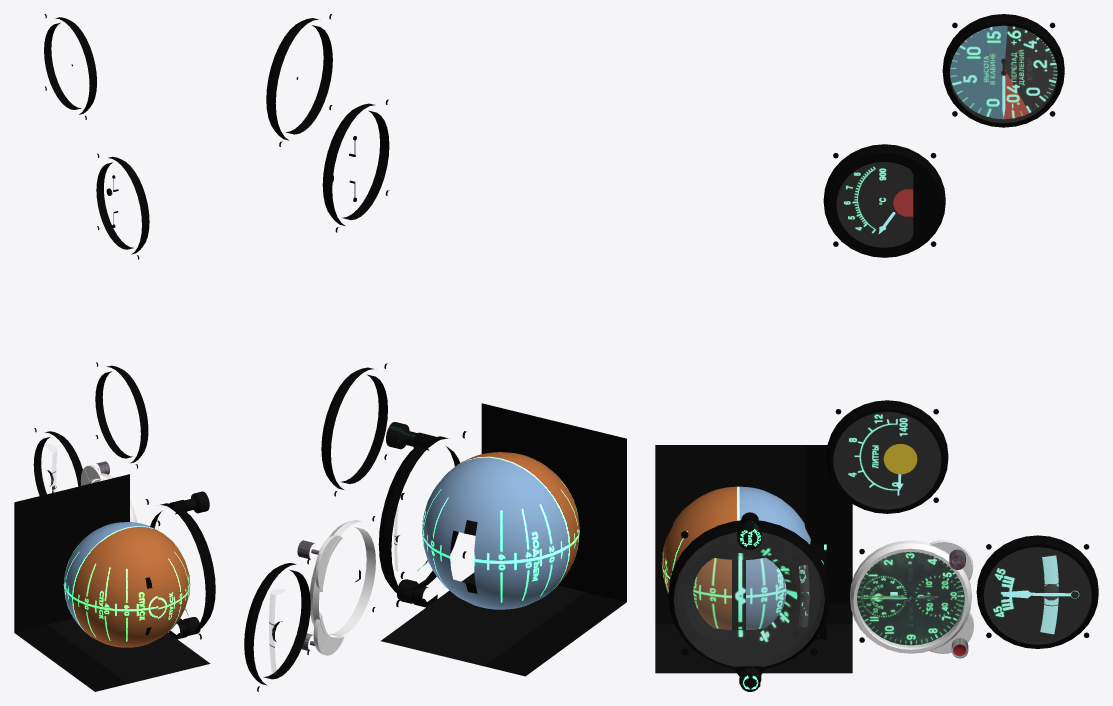
The model's file is MiG-15bis-instruments1.gltf.
3 views of the same model, side by side, from view 1: azimuth 30°, elevation 25°; view 2: azimuth 150°, elevation 25°; view 3: azimuth 270°, elevation 25° (orthographic). The views are drawn at different scales.
Visible parts, largest first — view 1: HO_OB_Cube, HO_Sphere, HO_Bezel, FM_Bezel, GT_Bezel, MAN_Bezel, TM_Bezel, CH_Bezel, HO_Button; view 2: HO_OB_Cube, HO_Sphere, CH_Bezel, HO_Bezel, GT_Bezel, MAN_Bezel, FM_Bezel, TM_Bezel, HO_Button; view 3: HO_OB_Cube, HO_Glass, HO_Sphere, MAN_Glass, FM_Glass, TM_Glass, HO_Backpanel, glass, MAN_Backplate, face, FM_Backplate, TM_Foreplate (+14 smaller).
Part boxes in pixels (<box>): HO_OB_Cube: <box>14,474,210,691</box>; HO_Sphere: <box>63,522,190,647</box>; HO_Bezel: <box>145,499,215,639</box>; FM_Bezel: <box>95,362,148,468</box>; GT_Bezel: <box>96,153,149,259</box>; MAN_Bezel: <box>44,14,96,119</box>; TM_Bezel: <box>33,428,82,495</box>; CH_Bezel: <box>80,465,137,522</box>; HO_Button: <box>175,491,209,514</box>; HO_OB_Cube: <box>381,403,626,676</box>; HO_Sphere: <box>422,452,579,609</box>; CH_Bezel: <box>309,516,375,655</box>; HO_Bezel: <box>378,431,466,607</box>; GT_Bezel: <box>322,99,389,232</box>; MAN_Bezel: <box>266,14,332,146</box>; FM_Bezel: <box>321,363,387,496</box>; TM_Bezel: <box>244,559,310,691</box>; HO_Button: <box>386,422,429,450</box>; HO_OB_Cube: <box>655,445,852,673</box>; HO_Glass: <box>674,532,824,666</box>; HO_Sphere: <box>661,486,810,630</box>; MAN_Glass: <box>950,26,1057,122</box>; FM_Glass: <box>833,412,940,509</box>; TM_Glass: <box>984,547,1091,644</box>; HO_Backpanel: <box>677,532,820,659</box>; glass: <box>857,552,964,647</box>; MAN_Backplate: <box>950,25,1057,119</box>; face: <box>857,551,964,645</box>; FM_Backplate: <box>833,412,941,505</box>; TM_Foreplate: <box>983,547,1091,642</box>.
Size of the model in its own units: 0.16 by 0.559 by 0.3391.
3 materials, 2 textured.
